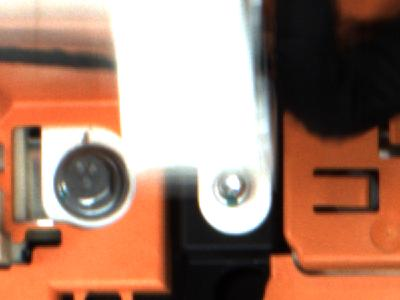nut_b: (52, 144, 123, 217)
